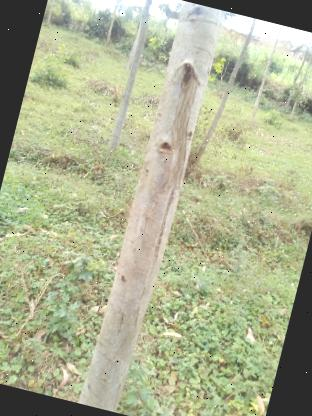tree: (64, 0, 245, 416)
